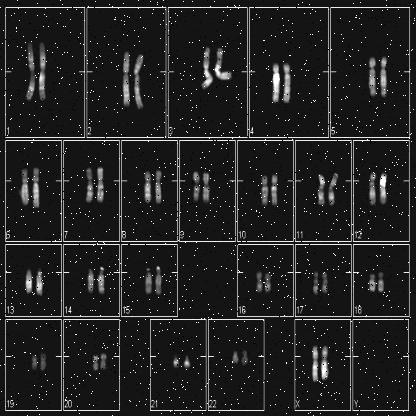1: (25, 40, 38, 102), (36, 38, 48, 103)
10: (260, 172, 268, 208), (271, 172, 279, 208)
11: (328, 170, 339, 206), (316, 172, 326, 206)
12: (367, 171, 377, 207), (380, 171, 390, 207)
13: (36, 266, 44, 298), (25, 266, 32, 297)
14: (86, 264, 94, 296), (98, 264, 106, 296)
15: (154, 264, 164, 296), (144, 268, 152, 296)
16: (256, 268, 264, 296), (265, 268, 272, 296)
17: (321, 270, 328, 298), (314, 269, 318, 297)
18: (368, 271, 376, 294), (378, 270, 384, 295)
19: (31, 352, 38, 372), (40, 352, 46, 372)
2: (120, 48, 131, 110), (134, 52, 145, 111)
20: (91, 352, 99, 372), (100, 351, 107, 371)
21: (172, 353, 180, 371), (183, 353, 191, 371)
22: (240, 349, 249, 367), (231, 350, 240, 366)
3: (200, 44, 214, 92), (214, 46, 232, 82)
4: (282, 62, 294, 106), (270, 63, 282, 104)
5: (368, 56, 378, 100), (379, 54, 388, 100)
6: (18, 166, 30, 210), (31, 166, 43, 210)
7: (83, 166, 94, 204), (96, 166, 106, 202)
8: (142, 169, 152, 205), (154, 169, 164, 205)
9: (202, 171, 212, 202), (192, 171, 200, 202)
X: (320, 342, 331, 382), (310, 343, 320, 384)
